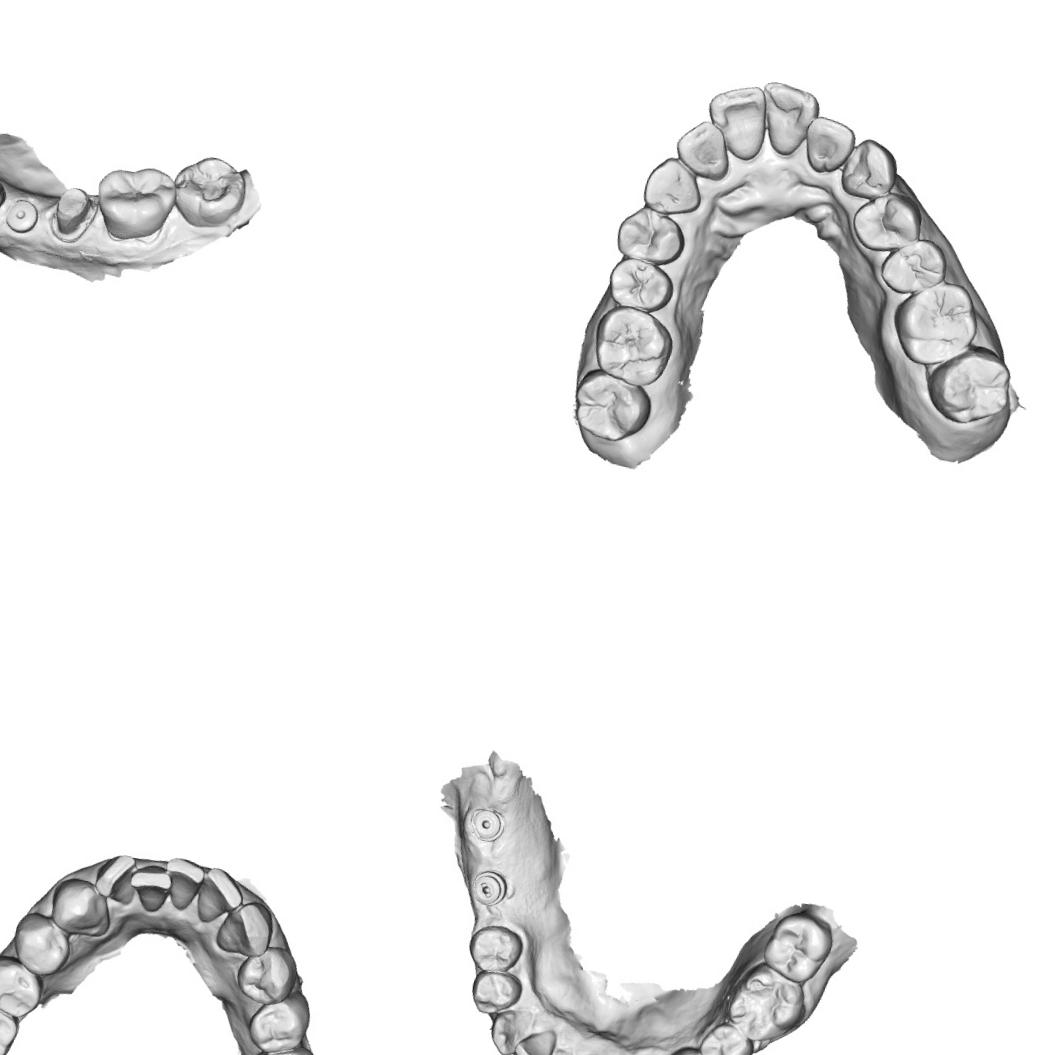canine: (46, 871, 116, 941), (637, 152, 707, 220), (836, 133, 902, 204), (213, 894, 276, 962), (485, 1003, 536, 1055)
crown: (45, 181, 97, 247)
implant: (2, 195, 40, 236), (467, 806, 506, 844)
implant_minus: (468, 866, 509, 908)
incisor: (698, 77, 774, 164), (751, 78, 823, 162), (670, 115, 736, 183), (798, 114, 858, 179), (155, 853, 208, 916), (195, 868, 246, 928), (124, 860, 173, 914), (90, 847, 138, 901), (510, 1023, 558, 1055), (524, 1043, 565, 1055)
molar: (884, 272, 984, 374), (919, 336, 1018, 431), (88, 156, 180, 248), (586, 300, 678, 392), (724, 958, 810, 1048), (566, 364, 656, 447), (166, 149, 250, 234), (758, 907, 836, 987), (0, 982, 24, 1055)
premolar: (847, 185, 926, 258), (875, 232, 951, 302), (613, 202, 690, 268), (6, 907, 74, 980), (603, 253, 678, 317), (235, 948, 296, 1009), (464, 920, 526, 978), (0, 952, 45, 1021), (250, 995, 303, 1051), (467, 967, 524, 1019), (694, 1018, 756, 1055), (661, 1042, 716, 1055)
